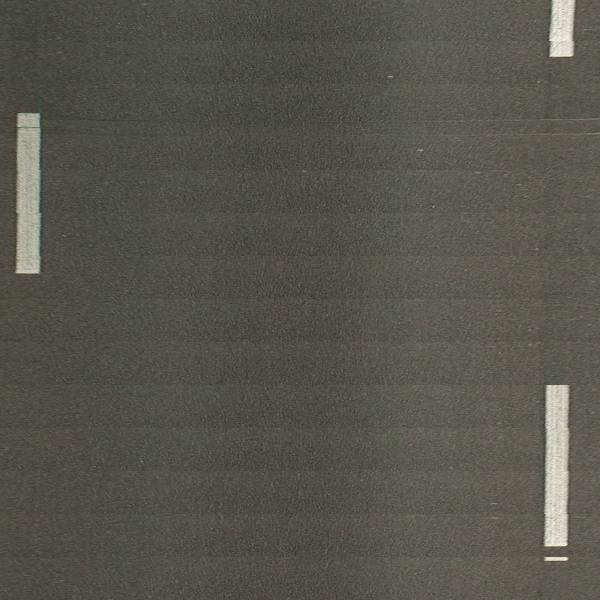road_damage: (396, 113, 599, 124)
